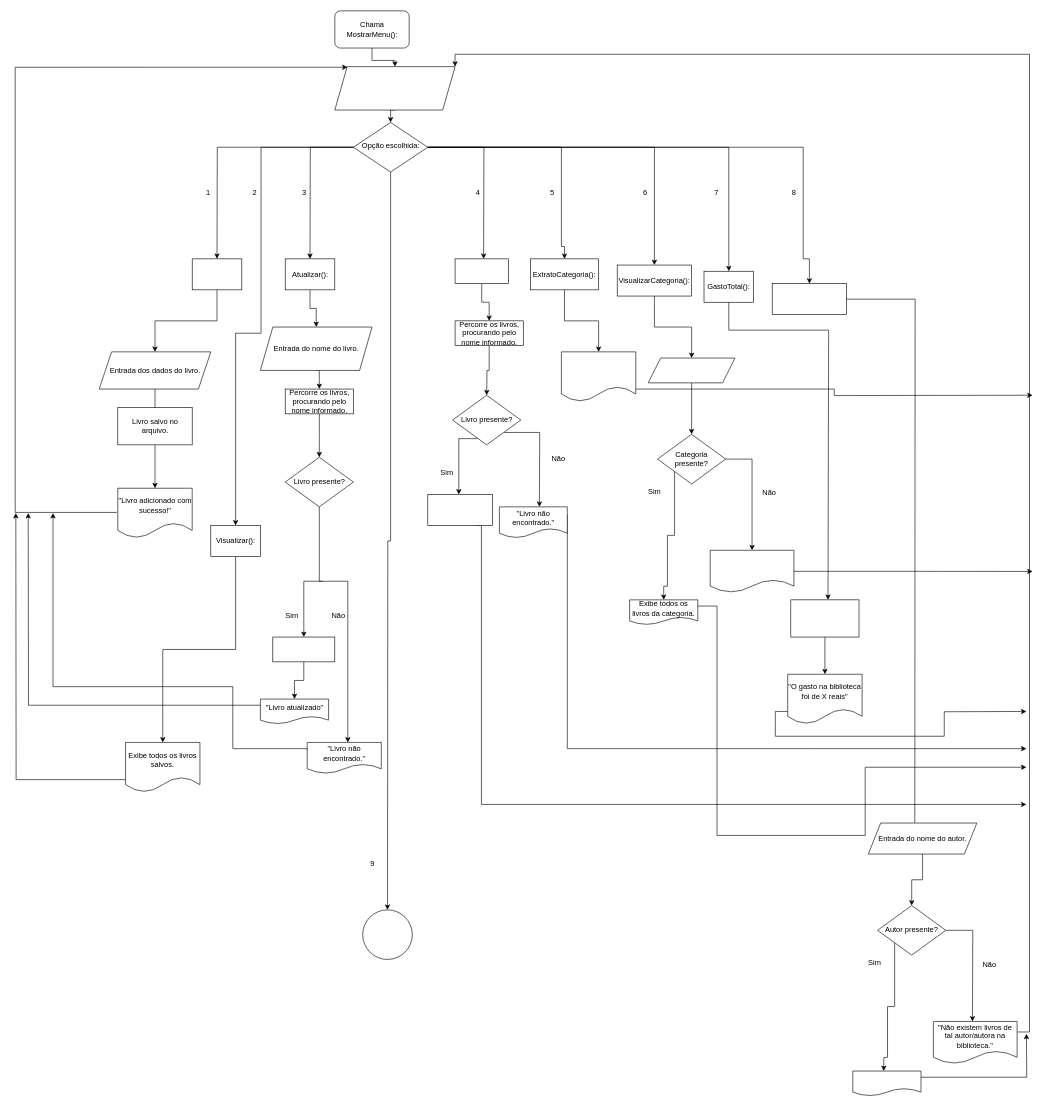
The diagram is 1048 pixels wide and 1107 high, and some of its shapes have lost their labels. Each missing label, with the centre of its shape:
"Não existem livros de tal categoria na biblioteca.": point (752, 571)
Adicionar():: point (217, 274)
Entrada da categoria.: point (691, 370)
Entrada de escolha de opção:: point (394, 88)
Excluir():: point (481, 271)
Exibe todos os livros do autor.: point (886, 1083)
Exibe todos os livros salvos, separados por categoria.: point (598, 376)
Fim: point (387, 934)
Livro editado não é salvo no arquivo.: point (460, 509)
Livro editado salvo no arquivo.: point (303, 649)
Percorre o arquivo somando o custo de cada livro.: point (824, 618)
VisualizarAutor():: point (809, 299)
